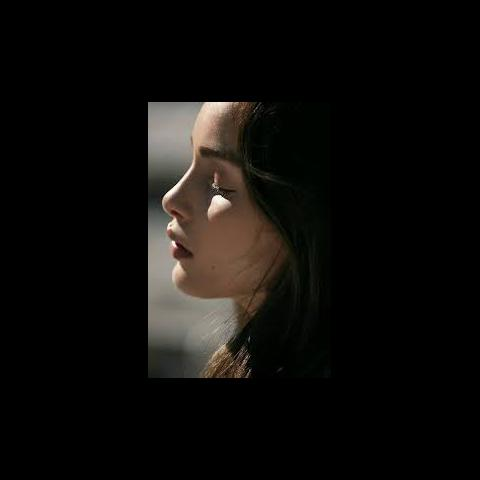closed: (200, 140, 252, 208)
